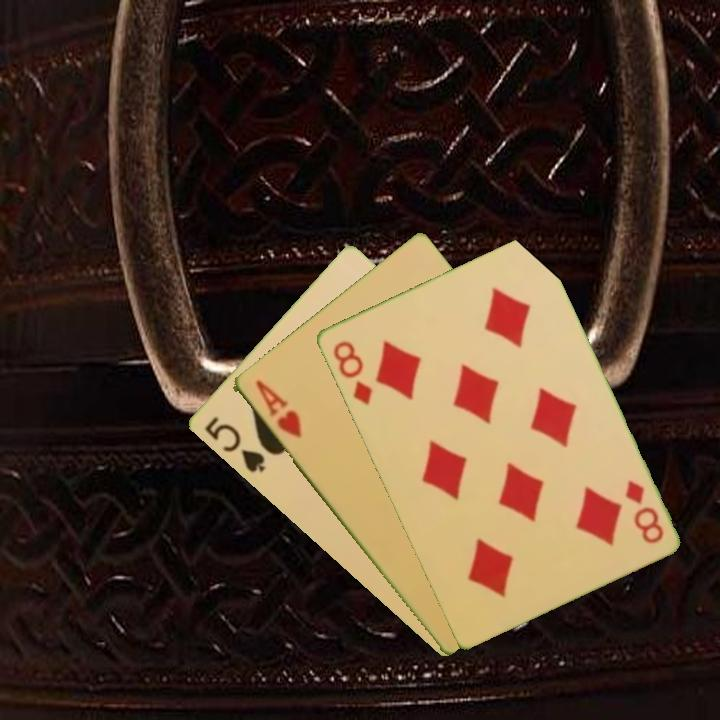5s: (200, 413, 268, 476)
8d: (620, 476, 667, 547), (329, 337, 375, 408)
Ah: (251, 376, 304, 441)
